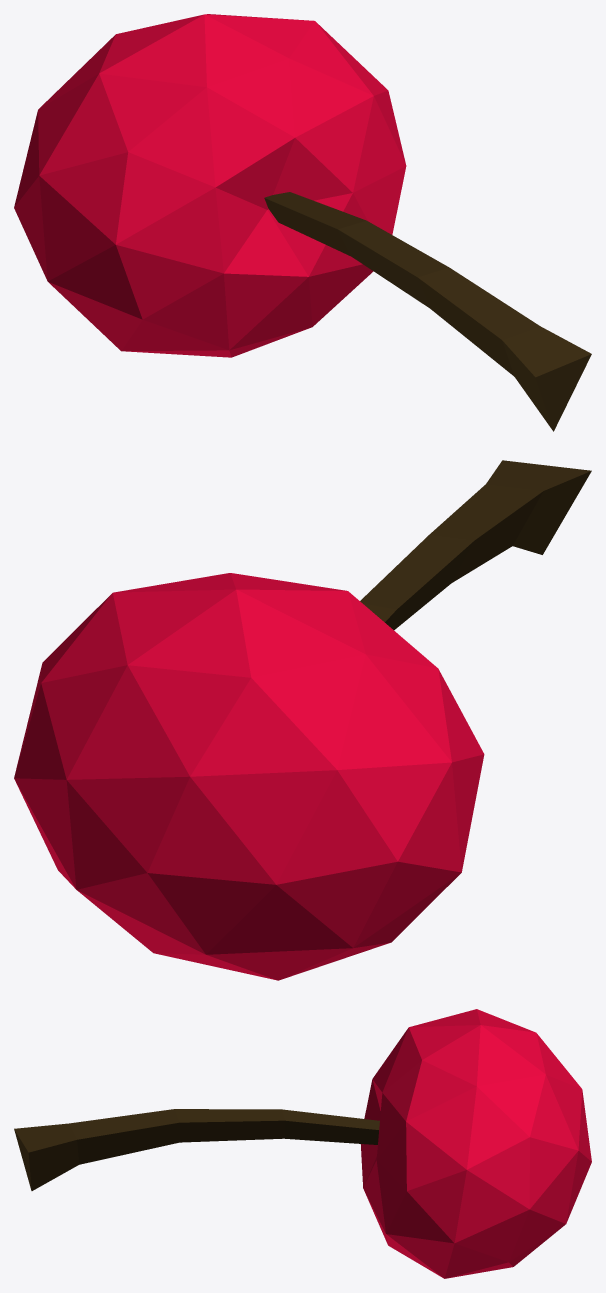
File: Cherry.glb
3 renders of one model, top to bottom at view 1: azimuth 30°, elevation 25°; view 2: azimuth 150°, elevation 25°; view 3: azimuth 270°, elevation 25°, orthographic. The views are drawn at different scales.
Visible parts, largest first — view 1: cherry; view 2: cherry; view 3: cherry.
Boxes of the visible parts, bbox=[...] form: cherry: bbox=[14, 14, 591, 431]; cherry: bbox=[14, 460, 591, 980]; cherry: bbox=[14, 1009, 591, 1278].
Size of the model in its own units: 0.5779 by 0.5116 by 1.13.
